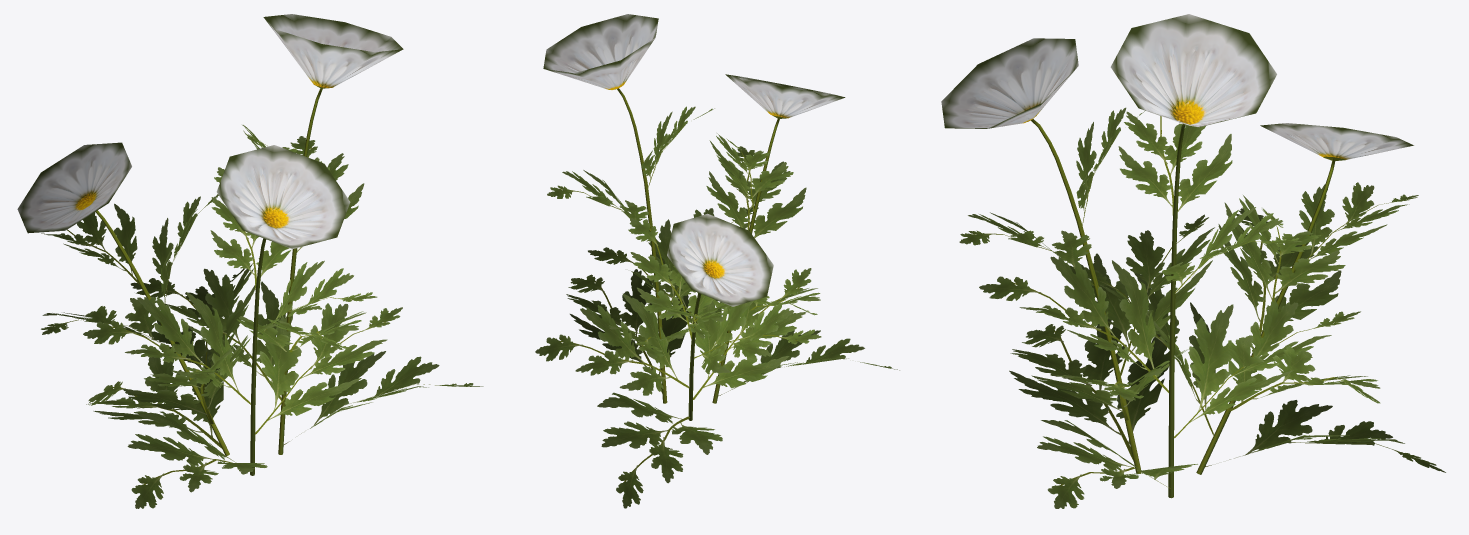
Rendered from daisy.fbx.
3 views of the same model, side by side, from view 1: azimuth 30°, elevation 25°; view 2: azimuth 150°, elevation 25°; view 3: azimuth 270°, elevation 25° (orthographic). The views are drawn at different scales.
Visible parts, largest first — view 1: Tree_1, Tree_0, Tree_2; view 2: Tree_1, Tree_0, Tree_2; view 3: Tree_1, Tree_0, Tree_2.
Boxes of the visible parts, x1,y1,x2,y2 form: Tree_1: [24, 125, 483, 508]; Tree_0: [17, 14, 403, 249]; Tree_2: [95, 84, 327, 475]; Tree_1: [535, 106, 899, 508]; Tree_0: [543, 14, 845, 306]; Tree_2: [615, 88, 786, 420]; Tree_1: [959, 107, 1445, 508]; Tree_0: [941, 14, 1413, 159]; Tree_2: [1027, 115, 1345, 498].
Bounding box in the file's own units: 88.65 × 98.01 × 88.95.
Materials: 3 (3 with a texture image).
